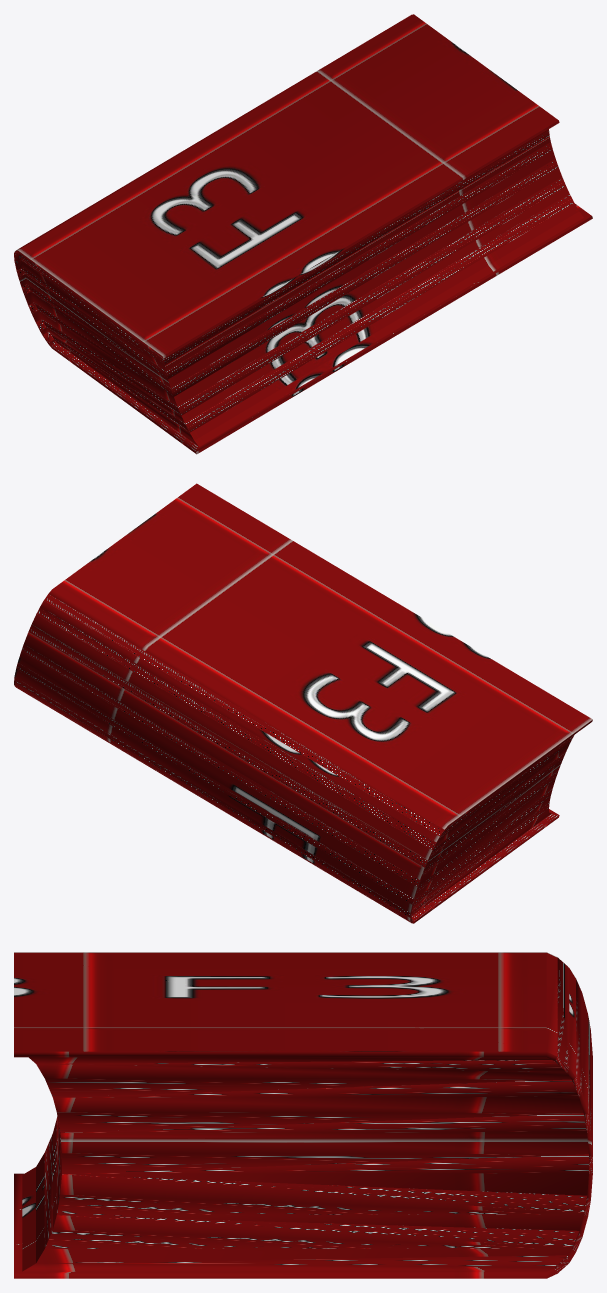
Rendered from KnjigaThree.fbx.
The picture shows the model from 3 angles, top to bottom: view 1: azimuth 30°, elevation 25°; view 2: azimuth 150°, elevation 25°; view 3: azimuth 270°, elevation 25°; orthographic projection. The views are drawn at different scales.
Parts seen in each view (by area): view 1: book; view 2: book; view 3: book.
Boxes of the visible parts, box(x1,y1,x2,y2) form: book: box(14, 14, 592, 454); book: box(14, 483, 592, 923); book: box(14, 952, 592, 1278).
Bounding box in the file's own units: 16.43 × 8.97 × 10.39.
Materials: 1 (1 with a texture image).
